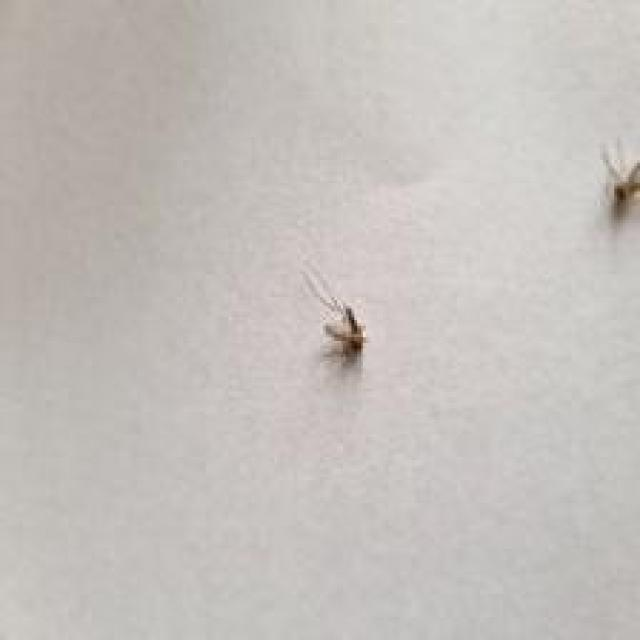Culex: (300, 263, 369, 360)
